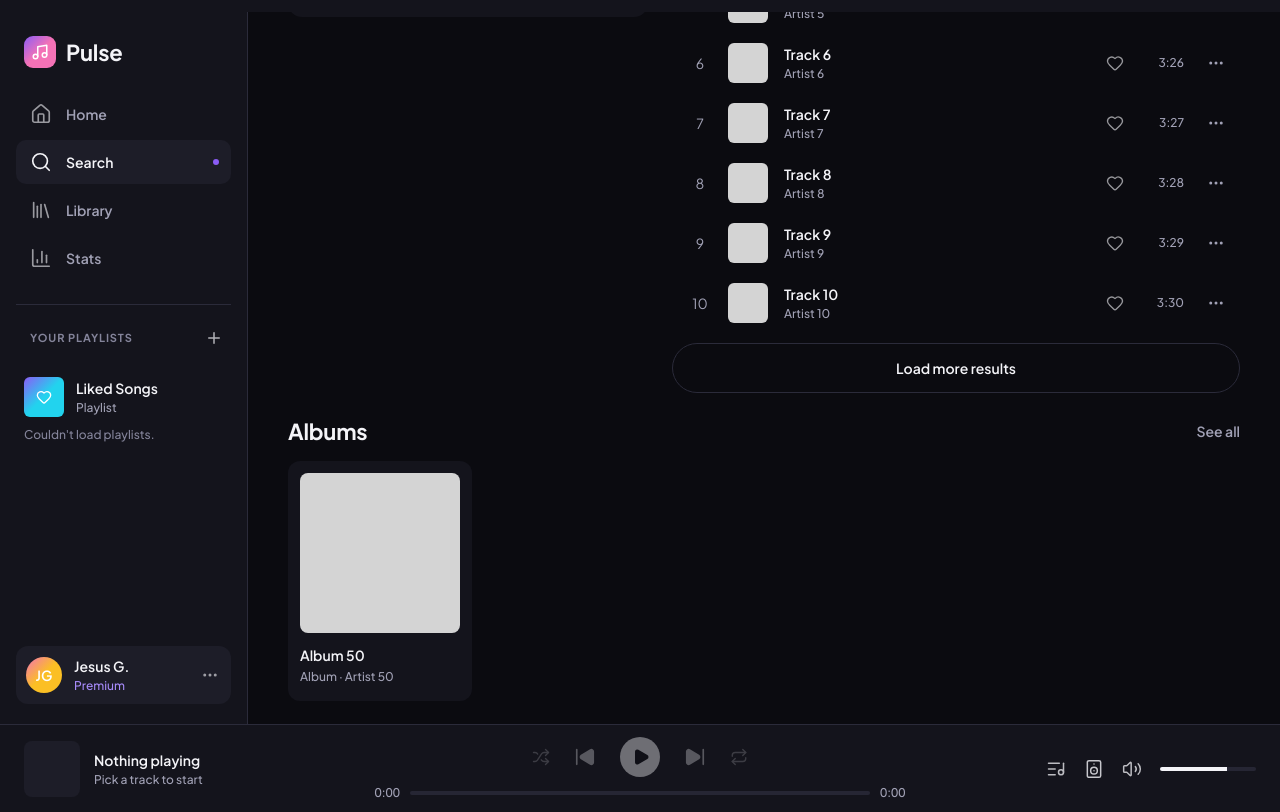
Test: SearchPage › loads more results with the next offset
(page scrolled)
Click the button "Load more results": [956, 368] box [672, 343, 1240, 393]
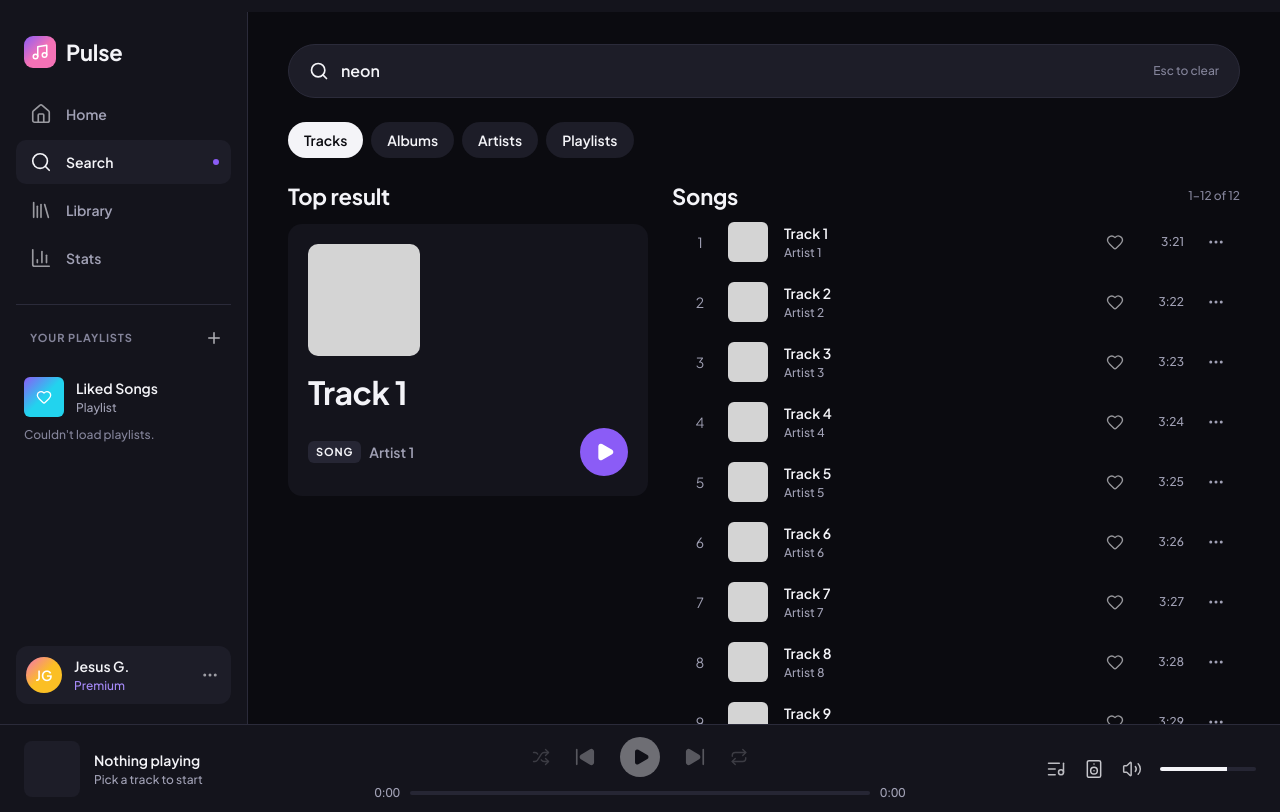
Expected: the text "1–12 of 12" is shown, [1188, 188, 1240, 204]
Expected: the button "Load more results" is gone
